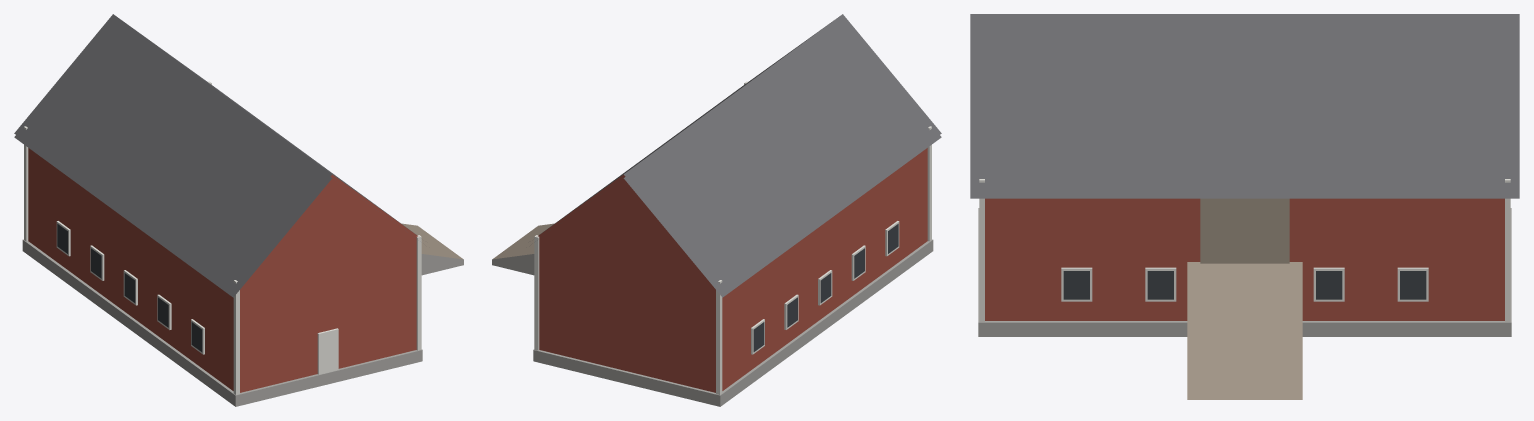
File: barn.glb
3 views of the same model, side by side, from view 1: azimuth 30°, elevation 25°; view 2: azimuth 150°, elevation 25°; view 3: azimuth 270°, elevation 25° (orthographic). The views are drawn at different scales.
Parts seen in each view (by area): view 1: barn_LOD0; view 2: barn_LOD0; view 3: barn_LOD0.
Part boxes in pixels (x1,y1,x2,y2): barn_LOD0: (14, 14, 463, 406); barn_LOD0: (492, 14, 941, 406); barn_LOD0: (970, 14, 1519, 399).
Size of what is drawn, in the model's own units: 17.45 by 11.15 by 20.9.
